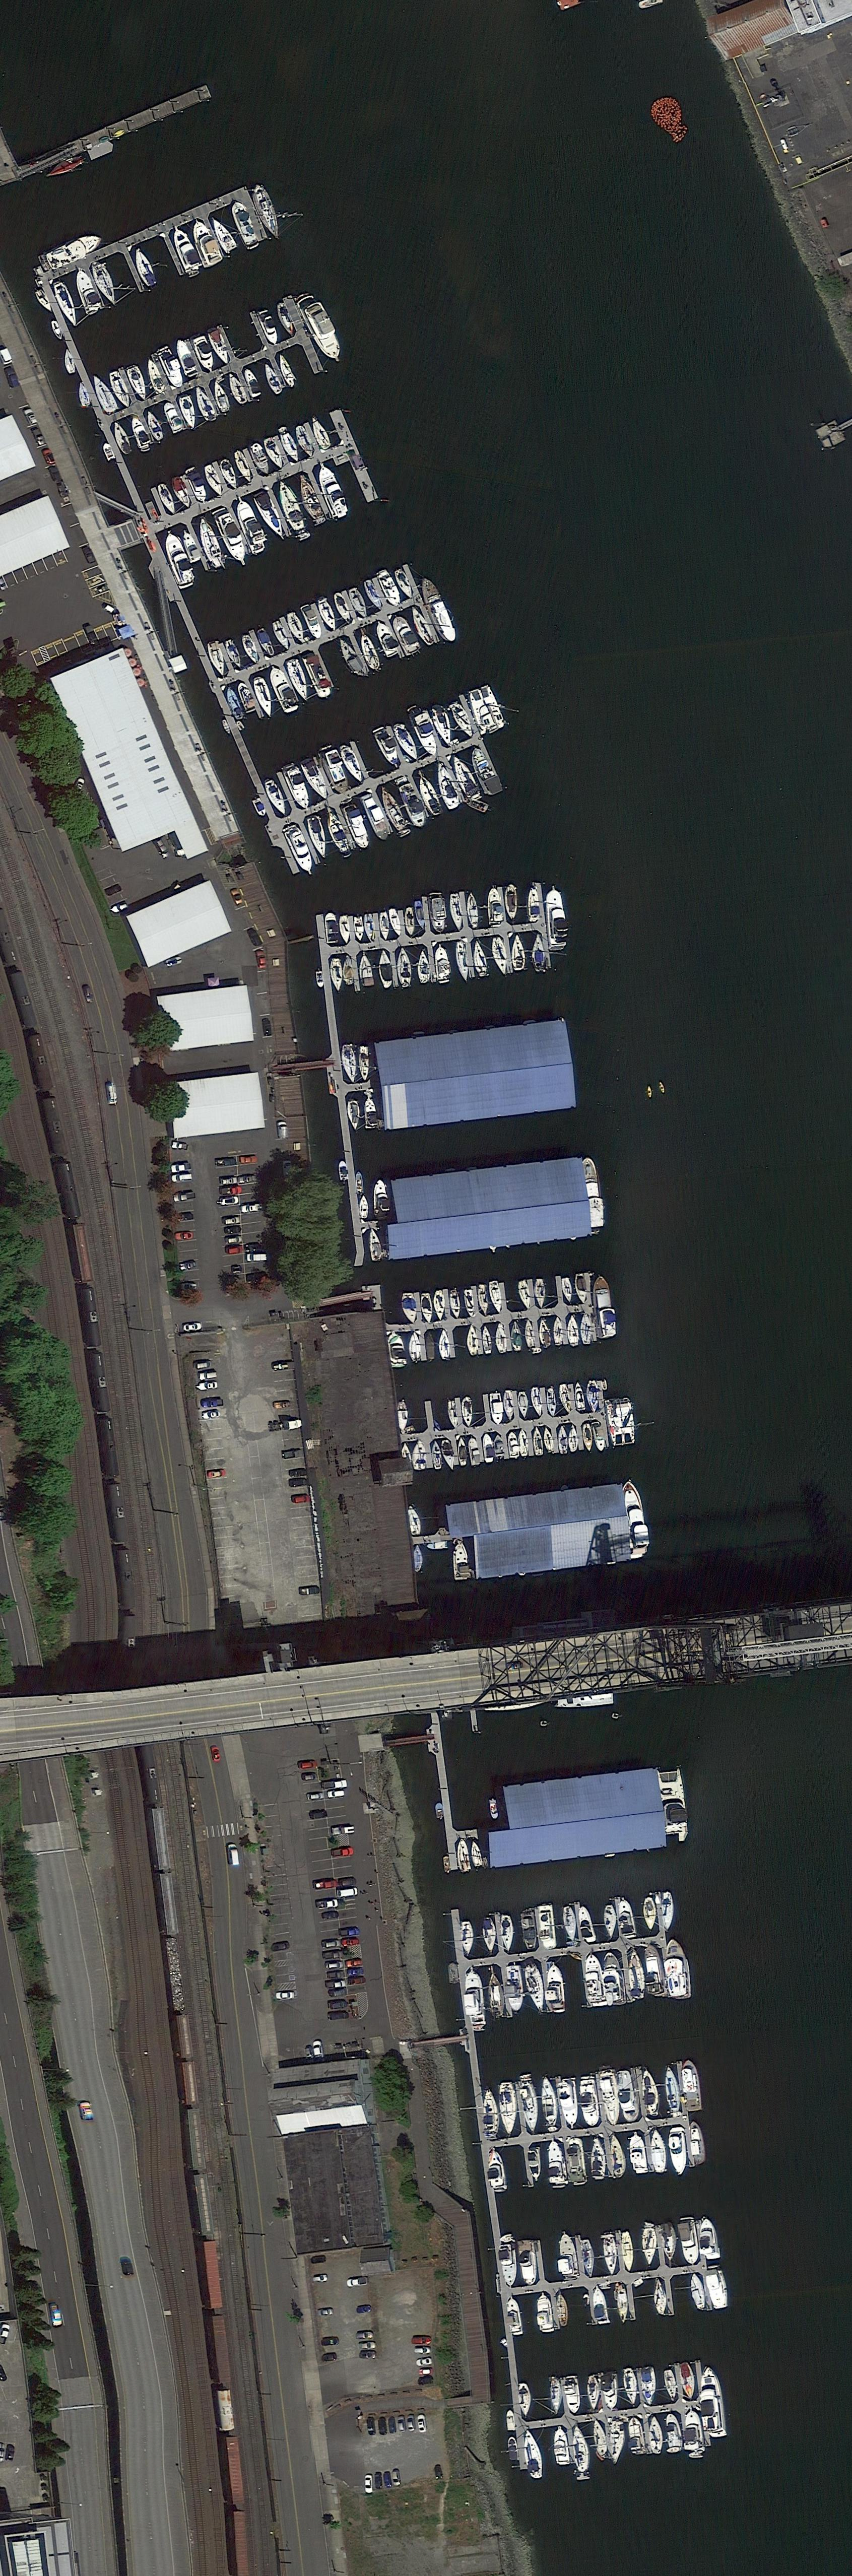harbor: (261, 692, 504, 871), (143, 406, 379, 583), (210, 562, 442, 728), (97, 294, 325, 457), (49, 186, 269, 324), (494, 2062, 696, 2192), (471, 1891, 671, 2021), (327, 881, 553, 994), (515, 2220, 712, 2334), (535, 2359, 712, 2466), (397, 1272, 599, 1364), (20, 84, 212, 179), (412, 1380, 609, 1470)
ship: (294, 289, 350, 368), (414, 575, 460, 647), (36, 228, 107, 274), (614, 1477, 650, 1562), (652, 1764, 689, 1845), (246, 182, 287, 245), (465, 682, 509, 739), (212, 506, 251, 570), (158, 529, 199, 590), (231, 495, 271, 557), (696, 2366, 727, 2440), (314, 458, 350, 519), (282, 821, 320, 879), (404, 703, 442, 759), (251, 488, 289, 544), (273, 476, 309, 532), (266, 662, 302, 716), (466, 744, 502, 798), (49, 278, 85, 332), (187, 217, 223, 269), (194, 514, 227, 570), (317, 744, 351, 797), (448, 751, 483, 803), (665, 1937, 693, 2001), (228, 199, 261, 253), (604, 1396, 639, 1447), (302, 651, 337, 702), (292, 470, 325, 522), (167, 223, 202, 273), (281, 761, 314, 812), (374, 784, 407, 835), (340, 802, 373, 853), (543, 884, 568, 951), (360, 792, 391, 844), (89, 256, 120, 309), (427, 703, 460, 751), (71, 268, 103, 315), (430, 761, 461, 810), (322, 803, 351, 854), (299, 756, 330, 803), (397, 782, 428, 830), (154, 343, 186, 391), (302, 813, 333, 861), (616, 2068, 642, 2124), (601, 1950, 627, 2006), (389, 611, 422, 656), (465, 1965, 488, 2027), (89, 370, 118, 417), (391, 721, 424, 764), (517, 2073, 540, 2134), (642, 1942, 666, 1998), (284, 657, 314, 703), (583, 1952, 607, 2006), (337, 634, 366, 679), (407, 603, 437, 647), (578, 2075, 602, 2127), (553, 2229, 579, 2279), (599, 2072, 622, 2127), (497, 2080, 520, 2136), (250, 674, 277, 720), (415, 772, 443, 818), (130, 245, 159, 288), (545, 2139, 570, 2190), (676, 2215, 701, 2266), (680, 2059, 703, 2113), (558, 2077, 581, 2131), (543, 1962, 566, 2016), (338, 743, 366, 787), (374, 567, 404, 608), (263, 777, 291, 820), (190, 332, 218, 375), (524, 1962, 547, 2013), (374, 728, 402, 769), (207, 327, 235, 368), (210, 214, 238, 255), (44, 153, 85, 181), (274, 422, 302, 463), (517, 2238, 540, 2287), (668, 2126, 689, 2178), (538, 2075, 560, 2127), (107, 368, 133, 411), (522, 2428, 543, 2481), (566, 2136, 588, 2187), (356, 631, 382, 672), (373, 618, 399, 659), (125, 361, 151, 403), (184, 465, 210, 506), (704, 2269, 731, 2310), (627, 1947, 647, 1999), (499, 2236, 519, 2288), (450, 700, 476, 739), (204, 639, 230, 679), (579, 1155, 602, 1199), (698, 2216, 721, 2261), (486, 1970, 507, 2017), (504, 1965, 525, 2013), (256, 307, 281, 348), (246, 442, 274, 478), (292, 422, 318, 460), (300, 601, 325, 641), (174, 337, 199, 376), (571, 2425, 591, 2474), (217, 457, 243, 493), (627, 2129, 648, 2173), (427, 890, 448, 935), (683, 2408, 704, 2453), (194, 383, 217, 424), (663, 2065, 683, 2113), (315, 595, 340, 632), (274, 301, 299, 338), (110, 419, 135, 457), (640, 2068, 660, 2114), (688, 2119, 708, 2165), (588, 2136, 607, 2182), (481, 2088, 501, 2134), (538, 1904, 558, 1950), (284, 610, 309, 646), (274, 353, 299, 389), (225, 370, 250, 406), (169, 475, 194, 511), (263, 435, 287, 472), (177, 527, 202, 563), (309, 416, 333, 452), (625, 2415, 647, 2456), (177, 393, 200, 430), (143, 357, 166, 394), (648, 2127, 666, 2175), (609, 2132, 627, 2180), (346, 587, 371, 621), (202, 463, 227, 498), (488, 2149, 507, 2192), (576, 1904, 598, 1944), (161, 399, 184, 435), (128, 414, 151, 450), (156, 481, 179, 518), (231, 449, 254, 485), (591, 1273, 614, 1309), (601, 2236, 621, 2277), (535, 2292, 555, 2333), (386, 1329, 407, 1367), (235, 680, 258, 715), (332, 591, 355, 626), (361, 578, 384, 613), (392, 567, 415, 601), (261, 361, 284, 396), (143, 409, 166, 444), (617, 1898, 637, 1937), (394, 946, 414, 986), (240, 632, 263, 665), (254, 626, 277, 659), (271, 619, 294, 652), (660, 2223, 680, 2261), (650, 2277, 670, 2315), (621, 2367, 640, 2405), (499, 1912, 517, 1953), (591, 2284, 609, 2325), (340, 1043, 358, 1084), (491, 935, 509, 976), (678, 2361, 696, 2402), (223, 687, 245, 721), (212, 378, 233, 412), (455, 940, 471, 984), (660, 1891, 678, 1930), (520, 1911, 538, 1950), (560, 1904, 578, 1944), (689, 2270, 708, 2310), (529, 933, 547, 973), (640, 2366, 658, 2405), (665, 2412, 683, 2451), (598, 1308, 619, 1341), (640, 1894, 658, 1932), (481, 1916, 499, 1953), (433, 943, 451, 981), (602, 2372, 621, 2410), (591, 2418, 609, 2456), (507, 2295, 524, 2336), (614, 2282, 630, 2323), (448, 892, 465, 933), (376, 948, 392, 989), (553, 2425, 570, 2466), (647, 2415, 663, 2456), (241, 368, 263, 399), (223, 639, 245, 670), (579, 2239, 596, 2279), (584, 1198, 604, 1231), (565, 2376, 581, 2415), (621, 2231, 635, 2274), (527, 2146, 543, 2183), (642, 2228, 658, 2266), (509, 933, 525, 971), (453, 1539, 468, 1580), (460, 1921, 476, 1957), (373, 1180, 389, 1216), (488, 1280, 504, 1314), (358, 953, 374, 987), (471, 938, 488, 973), (415, 950, 432, 984), (586, 2376, 602, 2410), (504, 882, 519, 920), (34, 288, 54, 315), (555, 2293, 571, 2326), (401, 1293, 417, 1326), (407, 1331, 424, 1364), (602, 1904, 617, 1940), (488, 887, 502, 923), (550, 2379, 565, 2415), (410, 1439, 427, 1470), (407, 1505, 424, 1536), (368, 1227, 382, 1262), (489, 1392, 504, 1426), (328, 958, 343, 992), (74, 381, 92, 409), (466, 890, 479, 928), (579, 1313, 594, 1346), (456, 1838, 471, 1871), (437, 1327, 451, 1360), (465, 1324, 479, 1357), (476, 1285, 491, 1318), (363, 1096, 378, 1129), (465, 795, 489, 815), (586, 1380, 601, 1413), (440, 1439, 455, 1472), (519, 2384, 534, 2417), (61, 348, 79, 375), (509, 1321, 524, 1352), (432, 1290, 447, 1321), (346, 1099, 361, 1130), (492, 1323, 507, 1354), (517, 1280, 532, 1311), (591, 1421, 606, 1452), (558, 1383, 573, 1415), (325, 912, 340, 943), (663, 2369, 678, 2400), (527, 887, 540, 922), (399, 1442, 414, 1472), (534, 1278, 547, 1311), (251, 797, 269, 820), (470, 1840, 484, 1868), (560, 1277, 575, 1304), (566, 1314, 579, 1346), (575, 1273, 588, 1304), (420, 1293, 433, 1324), (448, 1288, 461, 1319), (481, 1433, 494, 1464), (468, 1436, 481, 1467), (461, 1396, 474, 1428), (341, 955, 355, 986), (378, 910, 391, 941), (414, 899, 427, 930), (49, 319, 66, 343), (537, 1319, 552, 1346), (463, 1288, 476, 1318), (479, 1326, 492, 1355), (573, 1382, 586, 1411), (530, 1388, 543, 1418), (502, 1392, 515, 1421), (530, 1426, 543, 1456), (338, 915, 351, 945), (363, 913, 376, 943), (389, 909, 402, 938), (404, 907, 417, 936), (447, 1400, 460, 1429), (100, 440, 117, 463), (524, 1319, 537, 1347), (517, 1392, 530, 1419), (447, 1960, 461, 1985), (397, 1400, 409, 1431), (552, 1316, 563, 1346), (360, 1046, 369, 1081), (581, 1423, 593, 1452), (568, 1423, 579, 1452), (517, 1428, 529, 1457), (456, 1438, 468, 1467), (430, 1441, 442, 1470), (507, 2436, 520, 2461), (557, 1426, 568, 1454), (507, 1431, 519, 1459), (547, 1387, 557, 1418), (543, 1426, 555, 1452), (492, 1434, 506, 1457), (353, 915, 364, 941), (358, 1194, 369, 1219), (414, 1544, 424, 1572), (506, 2408, 517, 2431), (220, 718, 233, 738), (425, 1332, 435, 1359), (337, 1160, 348, 1181), (294, 529, 312, 542), (355, 1171, 364, 1194), (425, 1541, 448, 1551), (489, 1799, 499, 1820), (435, 1802, 445, 1819), (315, 971, 325, 987), (657, 1081, 668, 1094), (647, 1086, 653, 1099)
